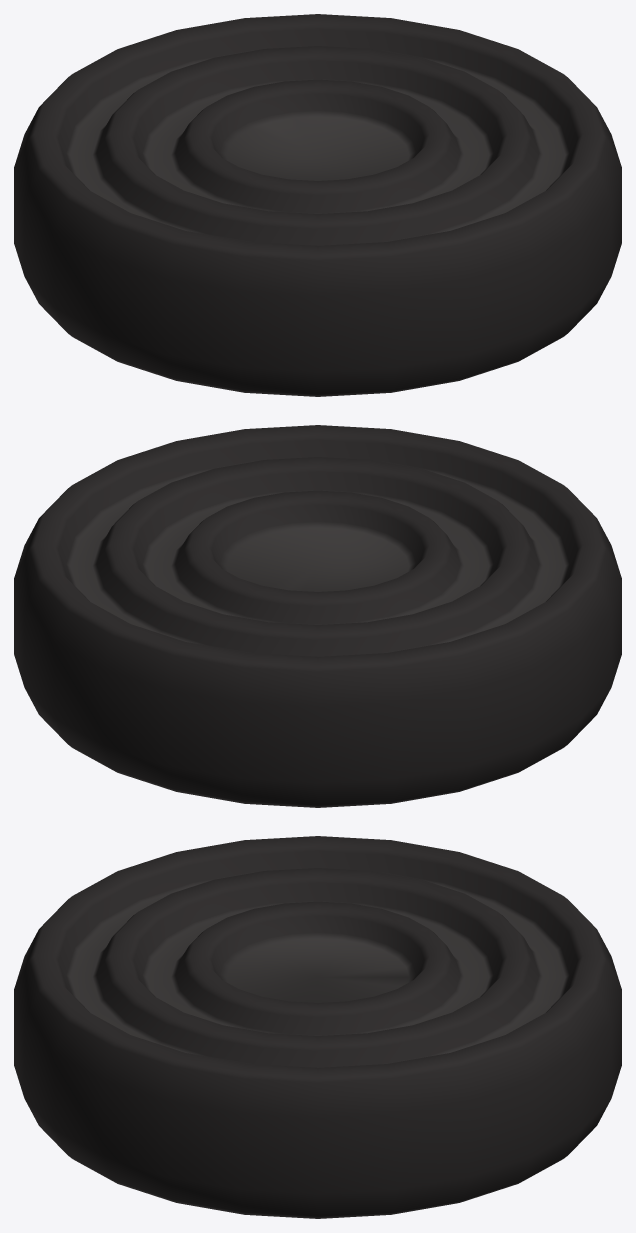
File: Checker_Piece_Black_01.fbx
3 renders of one model, top to bottom at view 1: azimuth 30°, elevation 25°; view 2: azimuth 150°, elevation 25°; view 3: azimuth 270°, elevation 25°, orthographic.
Visible parts, largest first — view 1: Checker_Piece_Black_01; view 2: Checker_Piece_Black_01; view 3: Checker_Piece_Black_01.
Part boxes in pixels (x1,y1,x2,y2): Checker_Piece_Black_01: (14,14,621,396); Checker_Piece_Black_01: (14,425,621,807); Checker_Piece_Black_01: (14,836,621,1218).
Bounding box in the file's own units: 3.88 × 1.05 × 3.88.
